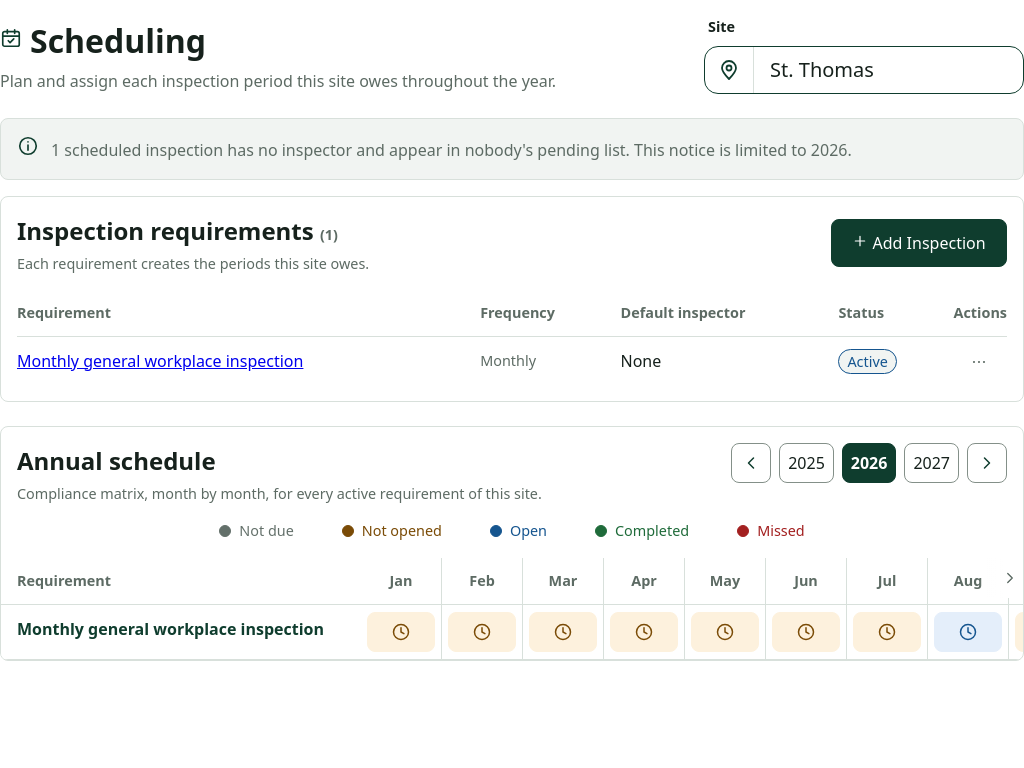
requirements y permisos › distingue error de plantillas del vacío de plantillas
Click the button "Add Inspection": x=919, y=243 [831,219,1007,267]
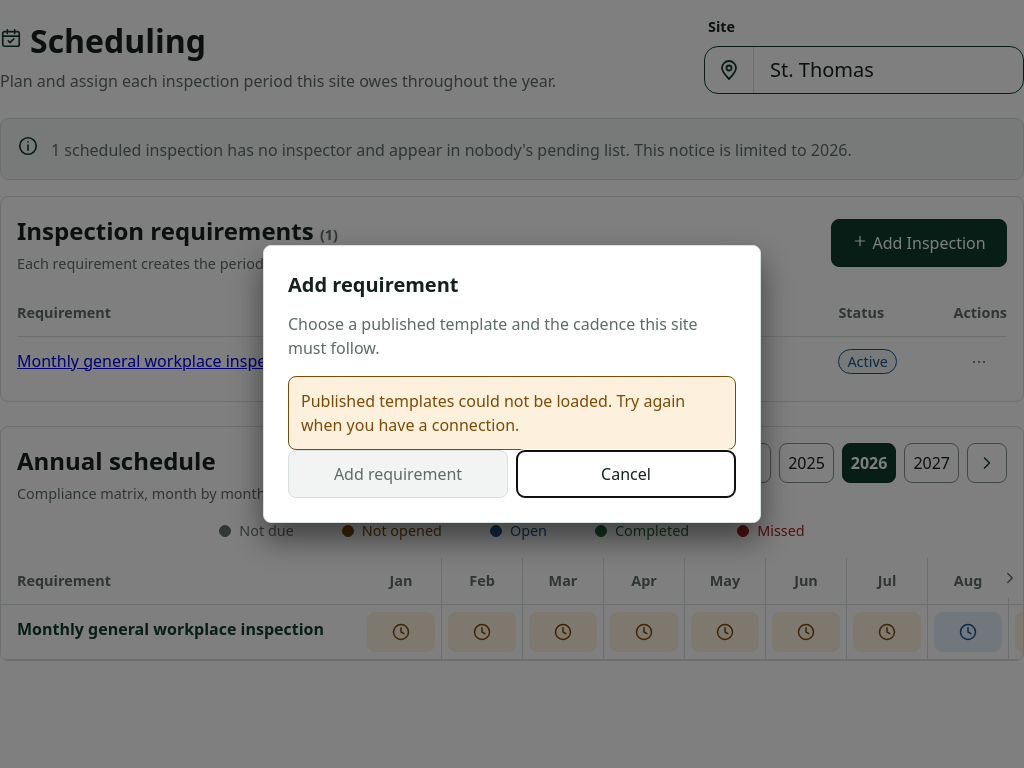
Expected: the text "could not be loaded" is shown, [301,390,685,436]
Expected: the button "Add requirement" is disabled, [288,450,508,498]
